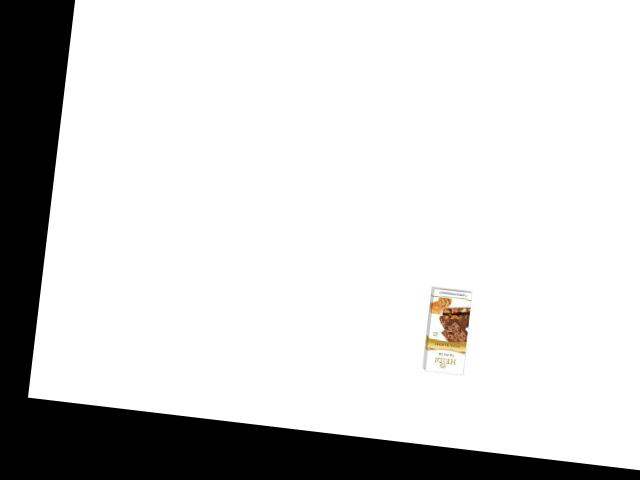chocolate: (419, 284, 474, 378)
